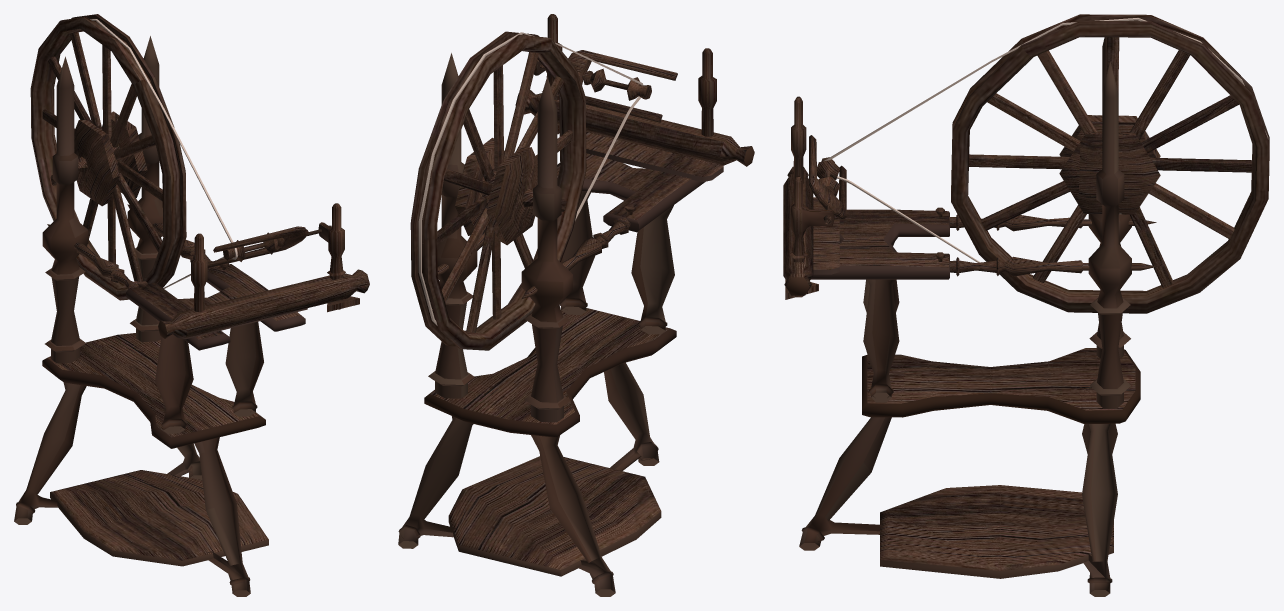
The model's file is SpinningWheel.glb.
3 views of the same model, side by side, from view 1: azimuth 30°, elevation 25°; view 2: azimuth 150°, elevation 25°; view 3: azimuth 270°, elevation 25° (orthographic). The views are drawn at different scales.
Visible parts, largest first — view 1: SpinningWheel; view 2: SpinningWheel; view 3: SpinningWheel.
Part boxes in pixels (x1,y1,x2,y2): SpinningWheel: (14,14,369,596); SpinningWheel: (398,14,754,596); SpinningWheel: (783,14,1269,596).
Size of the model in its own units: 0.8743 by 1.82 by 1.52.
Materials: 1 (1 with a texture image).
